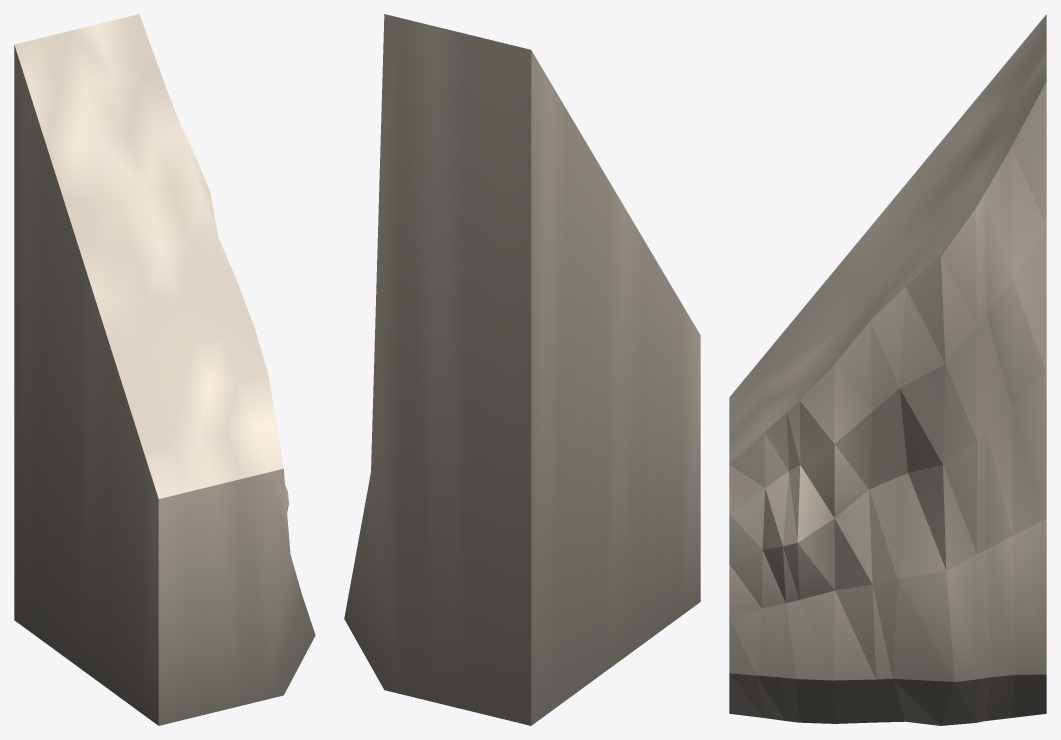
The model's file is SM_VKI_Rock_Cave_COOF_B.fbx.
3 views of the same model, side by side, from view 1: azimuth 30°, elevation 25°; view 2: azimuth 150°, elevation 25°; view 3: azimuth 270°, elevation 25° (orthographic). The views are drawn at different scales.
Parts seen in each view (by area): view 1: SM_VKI_Rock_Cave_COOF_B.001; view 2: SM_VKI_Rock_Cave_COOF_B.001; view 3: SM_VKI_Rock_Cave_COOF_B.001.
Part boxes in pixels (x1,y1,x2,y2): SM_VKI_Rock_Cave_COOF_B.001: (14,14,315,725); SM_VKI_Rock_Cave_COOF_B.001: (344,14,700,725); SM_VKI_Rock_Cave_COOF_B.001: (729,14,1046,725).
Bounding box in the file's own units: 1.04 × 3.3 × 1.5.
